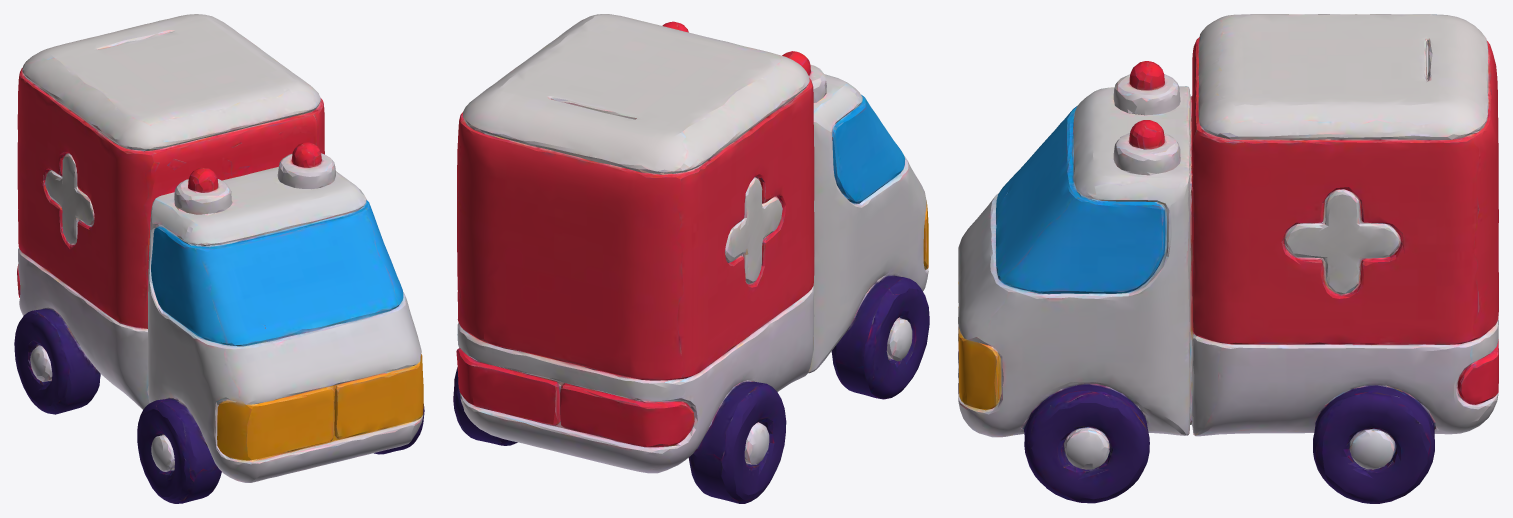
Rendered from ambulance.glb.
3 renders of one model, left to right at view 1: azimuth 30°, elevation 25°; view 2: azimuth 150°, elevation 25°; view 3: azimuth 270°, elevation 25°, orthographic. The views are drawn at different scales.
Parts seen in each view (by area): view 1: Mesh; view 2: Mesh; view 3: Mesh.
Boxes of the visible parts, x1,y1,x2,y2 form: Mesh: [14, 14, 424, 503]; Mesh: [453, 14, 929, 503]; Mesh: [958, 14, 1498, 503].
Size of the model in its own units: 0.6201 by 0.7759 by 1.
Materials: 1 (1 with a texture image).
